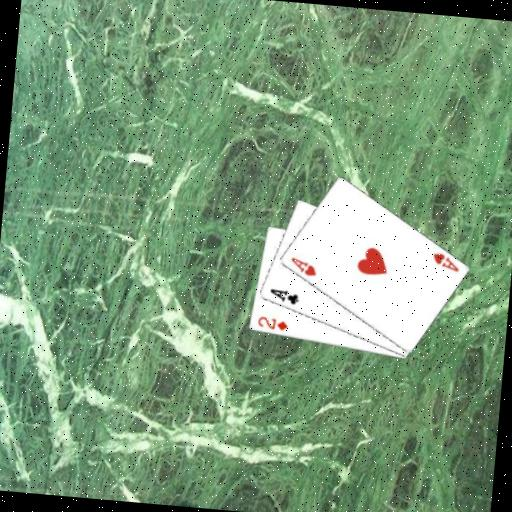2D: (255, 313, 290, 332)
AC: (265, 286, 300, 307)
AH: (428, 249, 461, 274), (287, 254, 319, 279)
